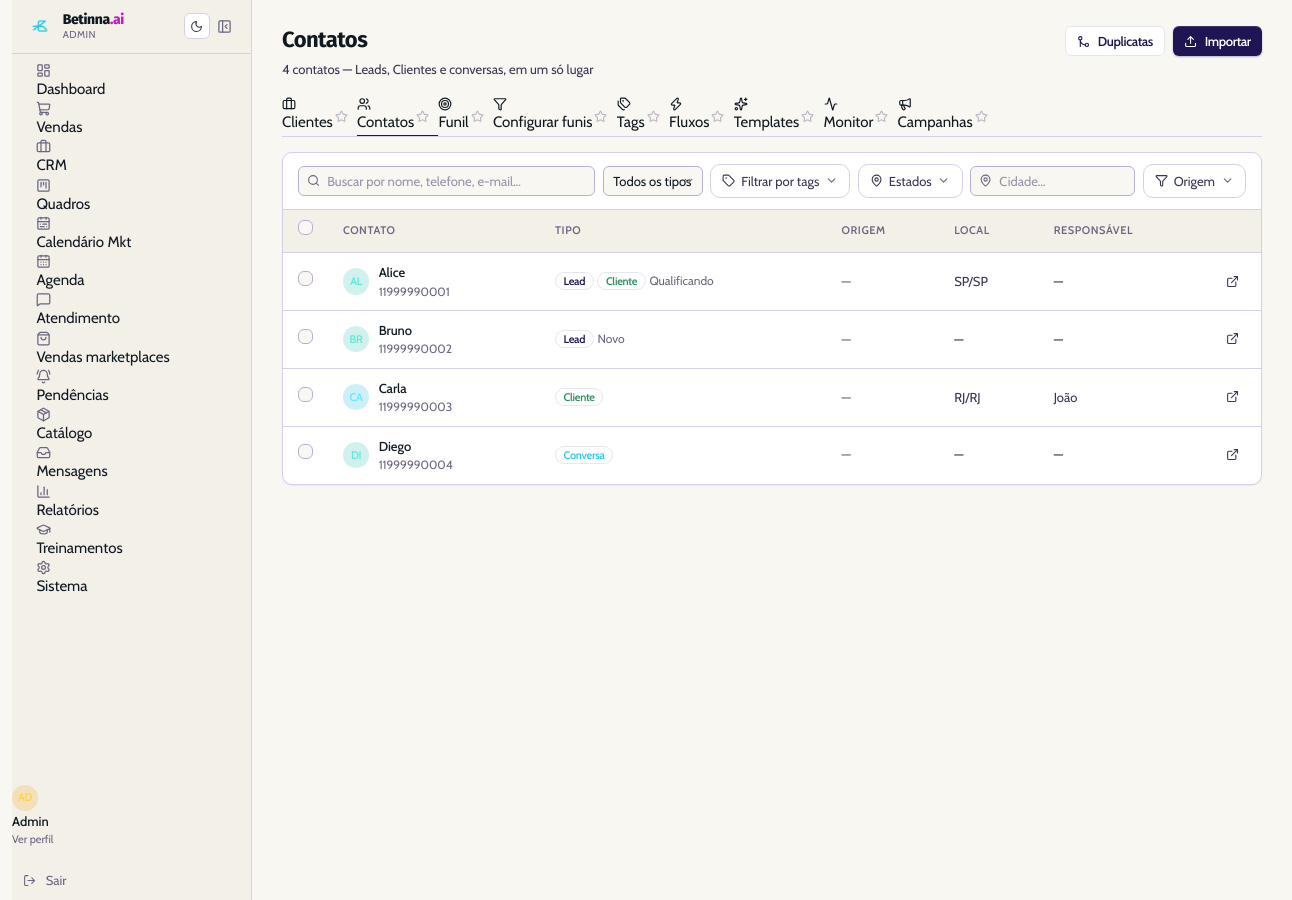
Test: selecionar todos da página › checkbox do header com todos selecionados desseleciona todos
Click the checkbox named "Selecionar todos da página" at coordinates (306, 228), box [298,220,313,235]
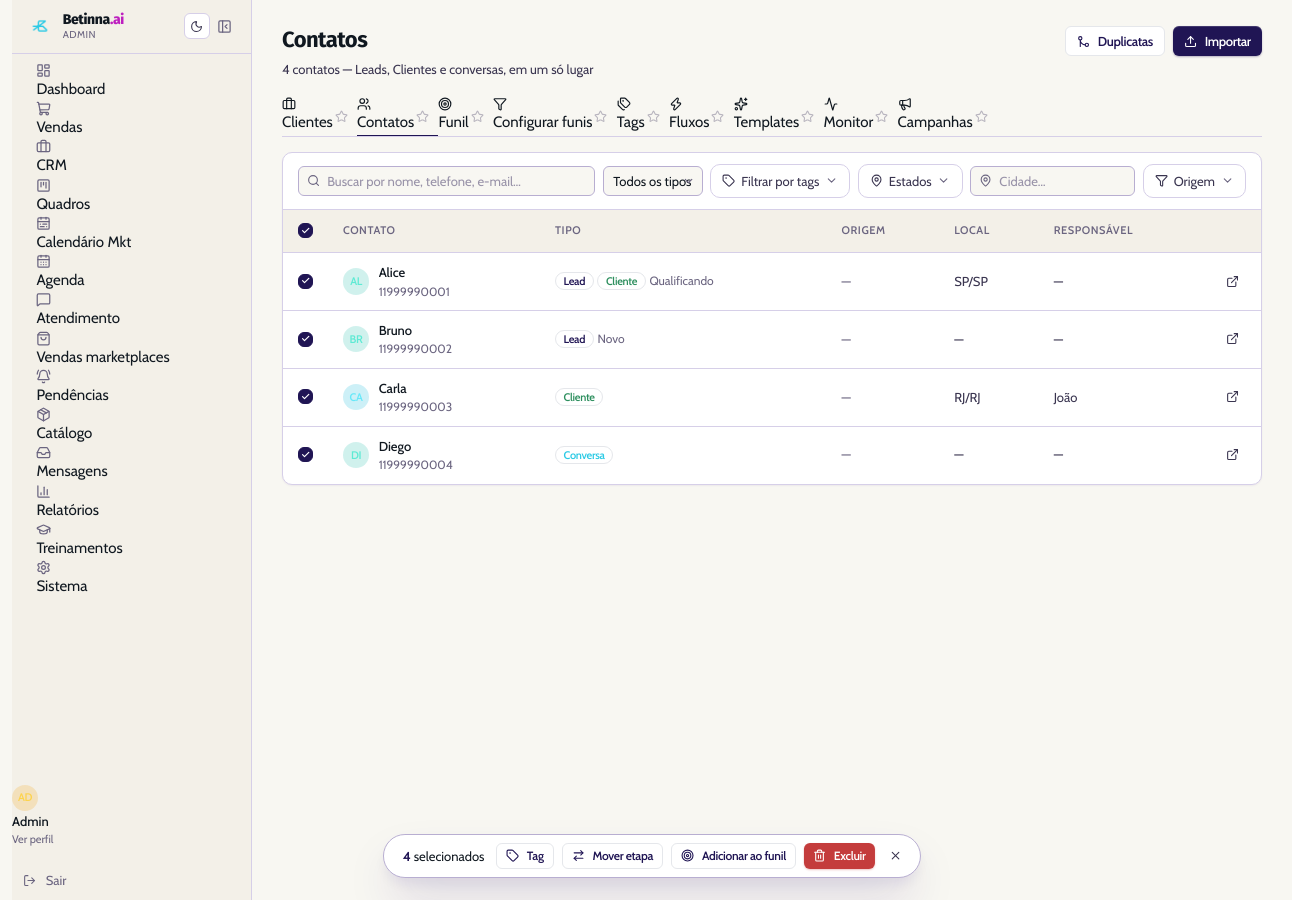
Click the checkbox named "Selecionar todos da página" at coordinates (306, 231), box [298,223,313,238]
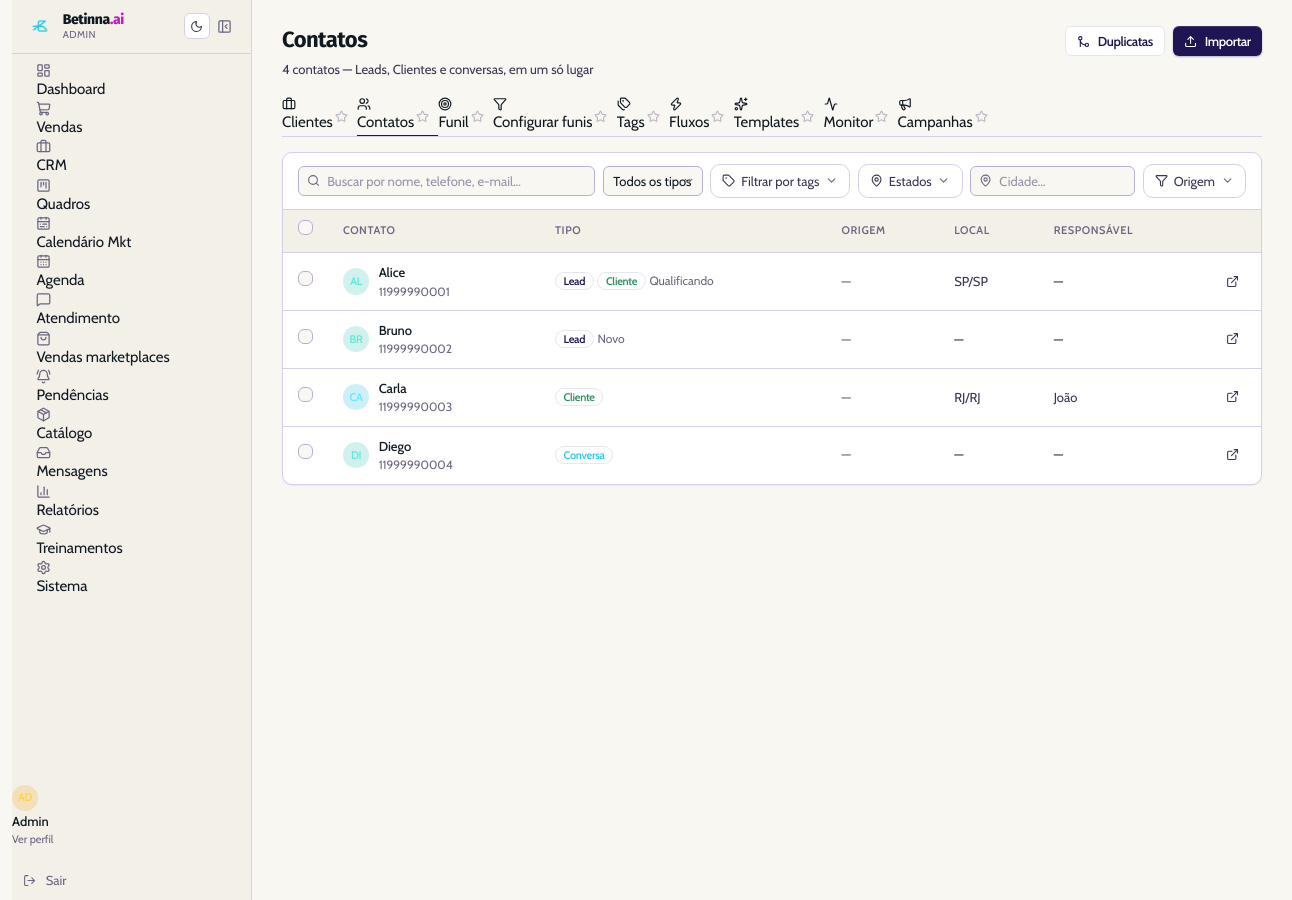
Result: the text "selecionado" is gone
